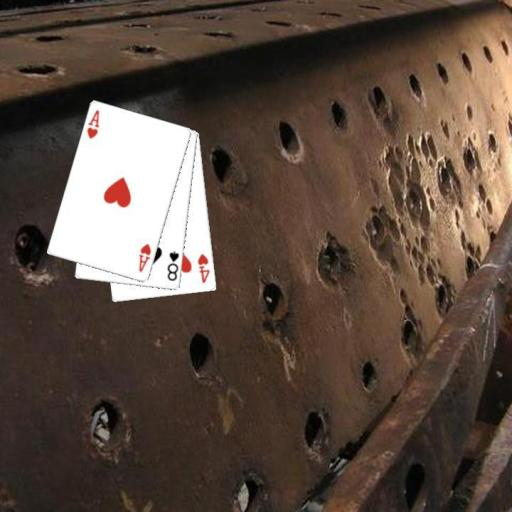4H: (195, 251, 211, 284)
8S: (164, 248, 181, 282)
AH: (136, 240, 153, 274), (84, 107, 101, 141)
